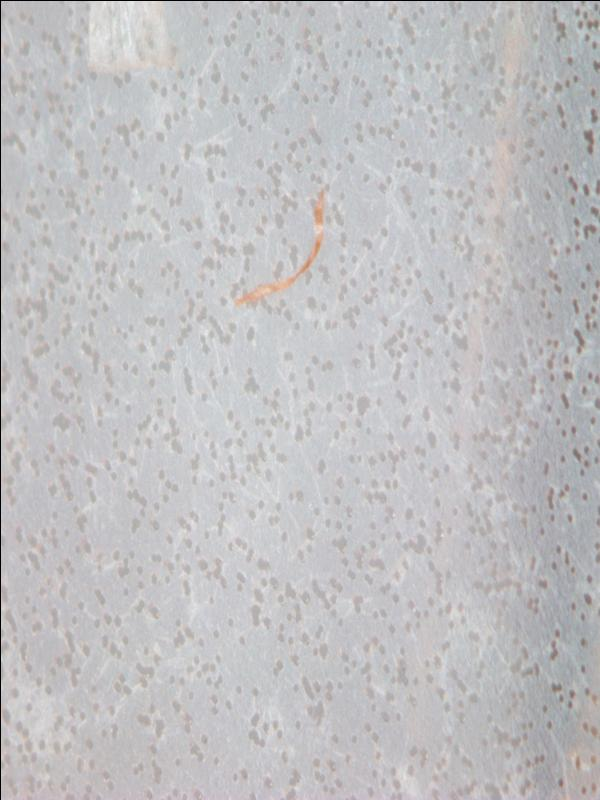microplastic: (1, 1, 599, 800), (231, 187, 324, 309)
